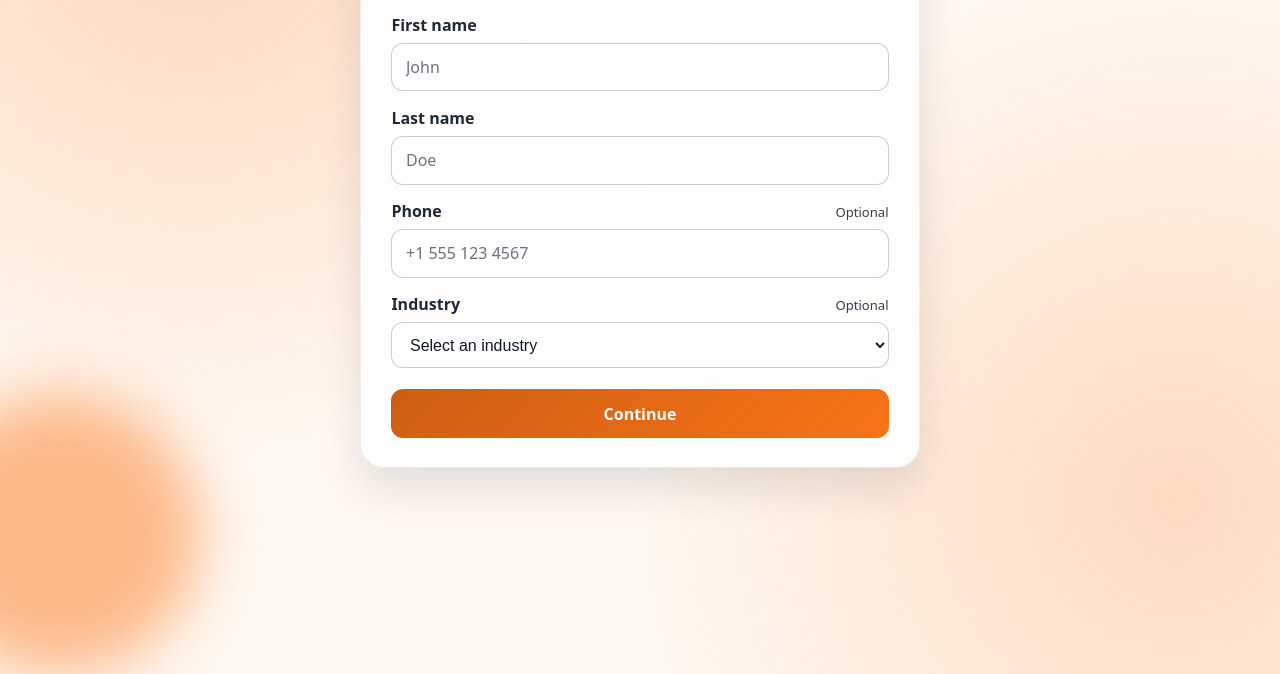
it: App UI › shows validation errors on submit when form is empty
(page scrolled)
What coordinates should you click on to do the following:
click the button "Continue"
I would click on:
 (640, 414)
Its box is [391,389,889,438].
(page scrolled)
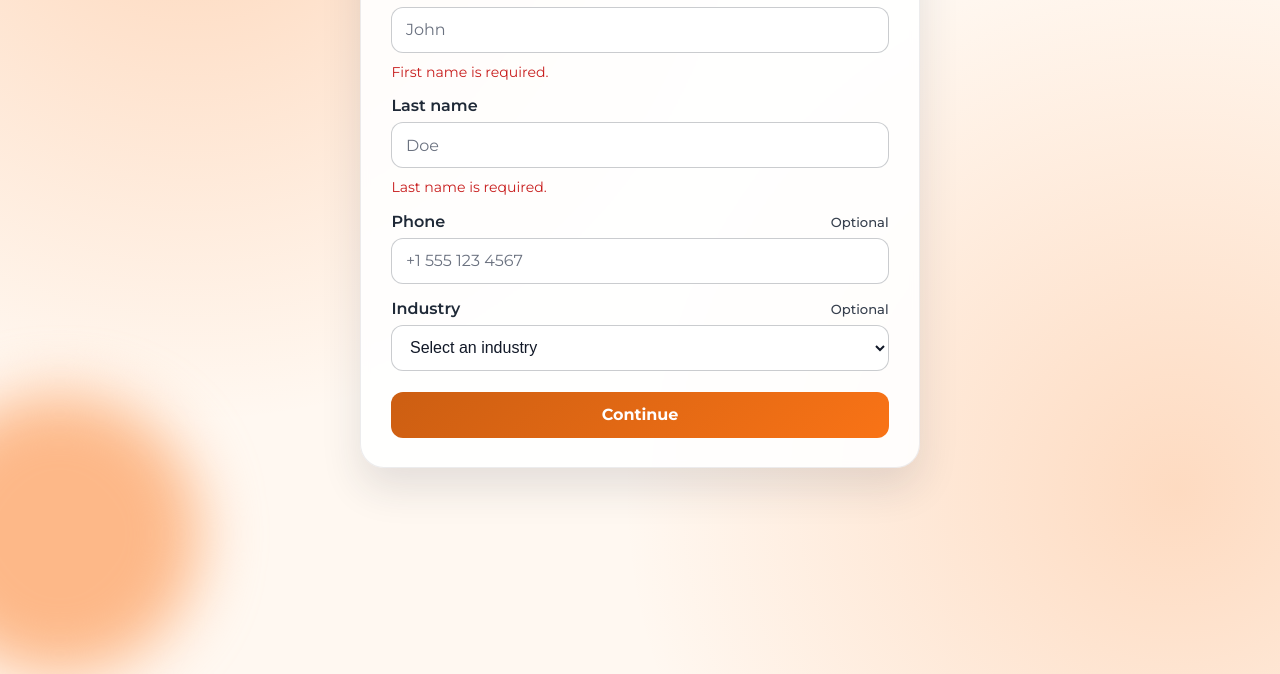
Result: the text "First name is required." is shown at [391,63,548,81]
Result: the text "Last name is required." is shown at [391,178,547,196]
